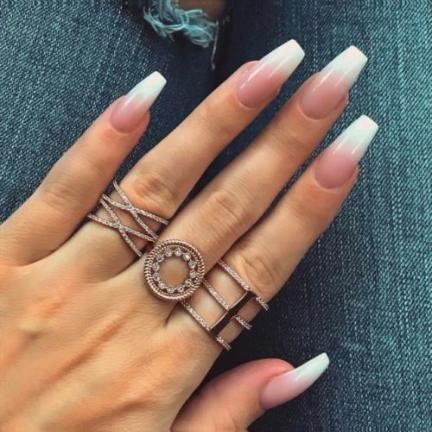Nail: (299, 44, 368, 119), (236, 38, 305, 108), (315, 114, 379, 188), (260, 352, 329, 409), (110, 70, 166, 133)
